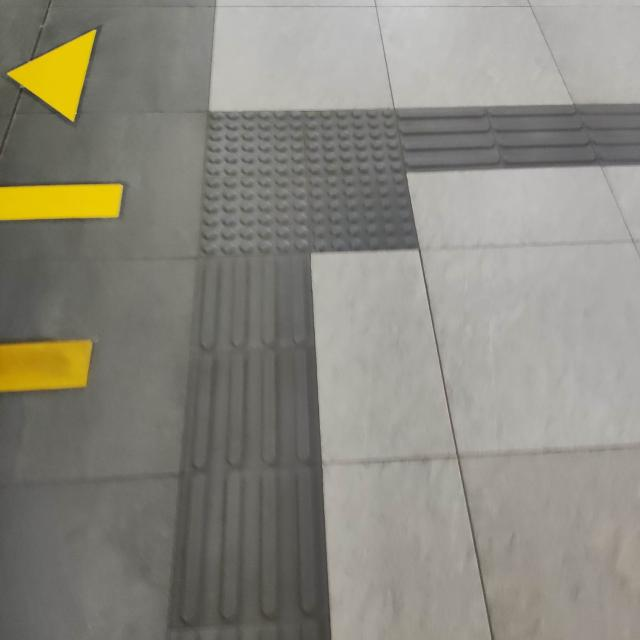kanan: (135, 67, 577, 286)
